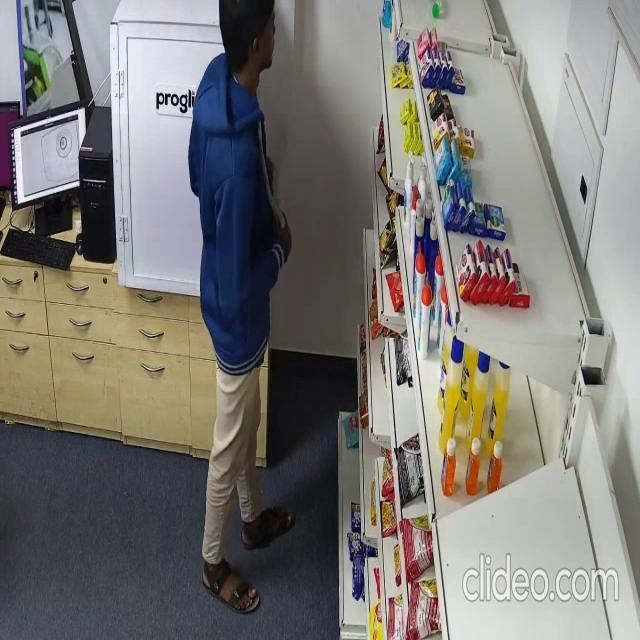Shoplifting: (182, 0, 300, 565)
